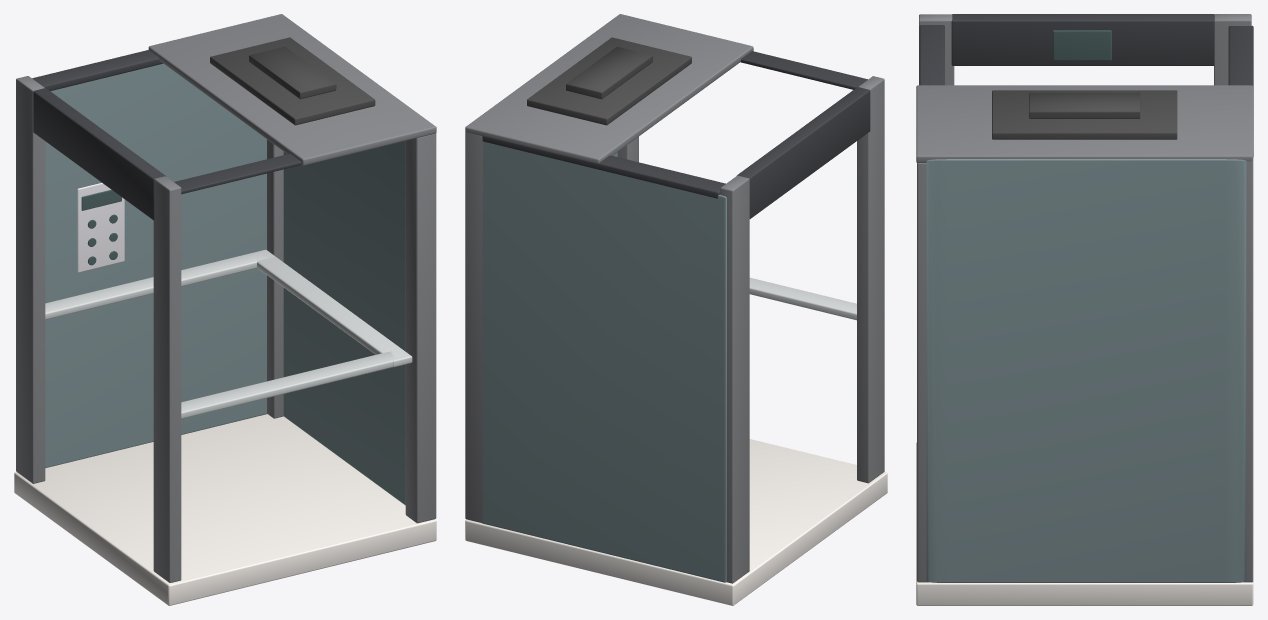
Rendered from elevator.gltf.
3 renders of one model, left to right at view 1: azimuth 30°, elevation 25°; view 2: azimuth 150°, elevation 25°; view 3: azimuth 270°, elevation 25°, orthographic. The views are drawn at different scales.
Parts seen in each view (by area): view 1: lift_lf_wall, lift_floor, lift_core_rt.1, lift_top, lift_core_rt, lift_open_rt, _lift_open_lt, lift_handle, lift_top_core, lift_top.1, lift_core_lt, lift_floor_botton_pannel (+3 smaller); view 2: lift_lf_wall, lift_floor, lift_top, lift_open_rt, _lift_open_lt, lift_core_lt, lift_top_core, lift_top.1, lift_top_rt_core.001, lift_top.2, lift_handle, lift_top_rt_core.002; view 3: lift_core_rt.1, lift_top, lift_top_core, lift_floor, lift_top.1, lift_core_rt, lift_core_lt, lift_top.2, ligt_top_core_screen, lift_top_rt_core.001, lift_top_rt_core.002, _lift_open_lt (+1 smaller).
Boxes of the visible parts, box(x1,y1,x2,y2) form: lift_lf_wall: box(45, 63, 266, 467); lift_floor: box(14, 414, 436, 605); lift_core_rt.1: box(283, 141, 405, 505); lift_top: box(148, 14, 436, 165); lift_core_rt: box(405, 133, 436, 523); lift_open_rt: box(153, 176, 181, 582); _lift_open_lt: box(16, 76, 45, 483); lift_handle: box(45, 249, 412, 418); lift_top_core: box(33, 88, 166, 220); lift_top.1: box(210, 37, 375, 125); lift_core_lt: box(267, 139, 283, 418); lift_floor_botton_pannel: box(77, 183, 124, 272); lift_lf_wall: box(482, 141, 726, 582); lift_floor: box(465, 439, 887, 605); lift_top: box(465, 14, 753, 163); lift_open_rt: box(857, 76, 884, 483); _lift_open_lt: box(720, 175, 749, 583); lift_core_lt: box(465, 132, 483, 522); lift_top_core: box(737, 87, 870, 218); lift_top.1: box(527, 37, 691, 125); lift_top_rt_core.001: box(482, 135, 725, 198); lift_top.2: box(566, 46, 652, 99); lift_handle: box(749, 277, 856, 320); lift_top_rt_core.002: box(740, 51, 867, 89); lift_core_rt.1: box(926, 159, 1246, 582); lift_top: box(916, 85, 1253, 162); lift_top_core: box(951, 14, 1214, 65); lift_floor: box(916, 442, 1253, 605); lift_top.1: box(992, 90, 1177, 139); lift_core_rt: box(917, 163, 928, 582); lift_core_lt: box(1244, 161, 1253, 582); lift_top.2: box(1029, 92, 1140, 118); ligt_top_core_screen: box(1053, 30, 1111, 60); lift_top_rt_core.001: box(1228, 26, 1253, 156); lift_top_rt_core.002: box(919, 25, 944, 85); _lift_open_lt: box(1214, 14, 1251, 85).
Bounding box in the file's own units: 2.01 × 3.07 × 2.
